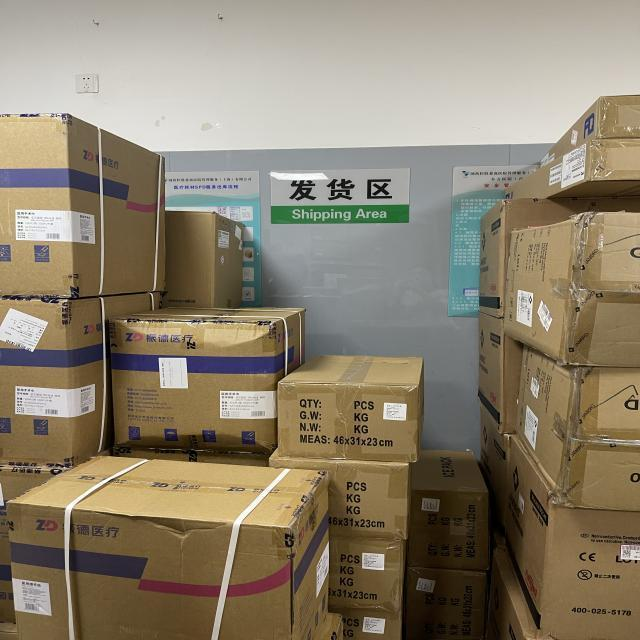box: (12, 454, 328, 640), (0, 111, 173, 297), (108, 303, 304, 457), (3, 290, 165, 466), (506, 444, 640, 640), (516, 340, 640, 508), (511, 227, 640, 366), (278, 348, 423, 460), (270, 448, 406, 536), (478, 197, 578, 316), (411, 452, 497, 573), (156, 203, 247, 313), (511, 141, 640, 202), (537, 96, 640, 167), (323, 538, 408, 618), (406, 573, 498, 640), (478, 318, 519, 428)
